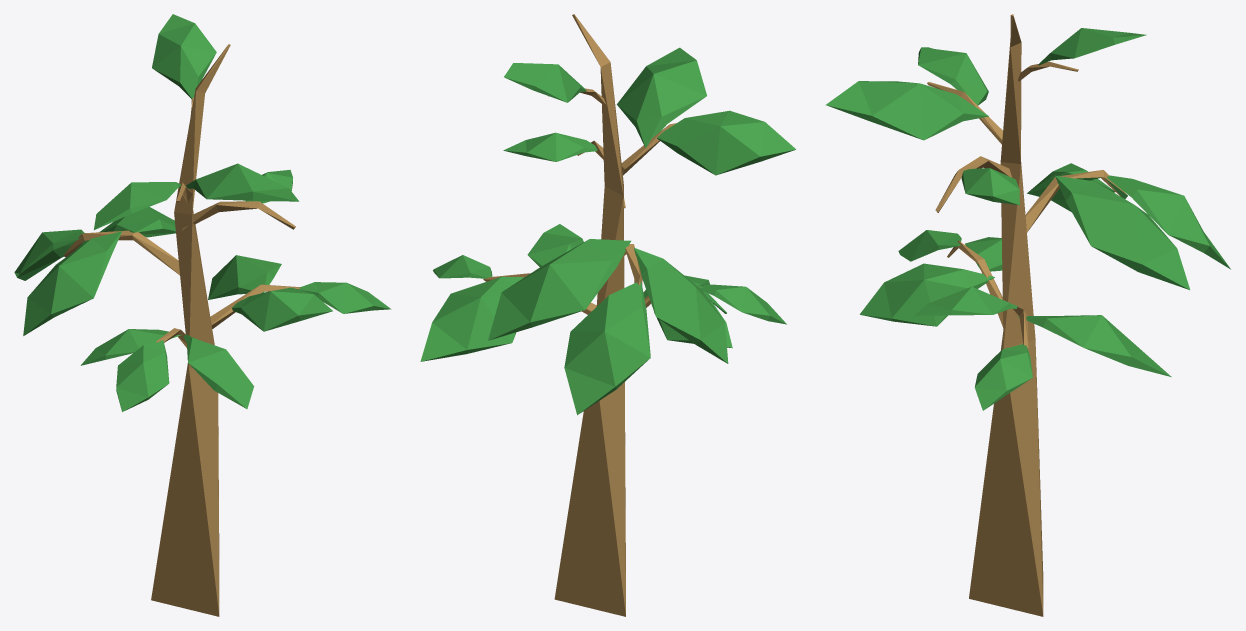
File: shrub2.obj
3 renders of one model, left to right at view 1: azimuth 30°, elevation 25°; view 2: azimuth 150°, elevation 25°; view 3: azimuth 270°, elevation 25°, orthographic. The views are drawn at different scales.
Bounding box in the file's own units: 6.03 × 9.74 × 5.97.
